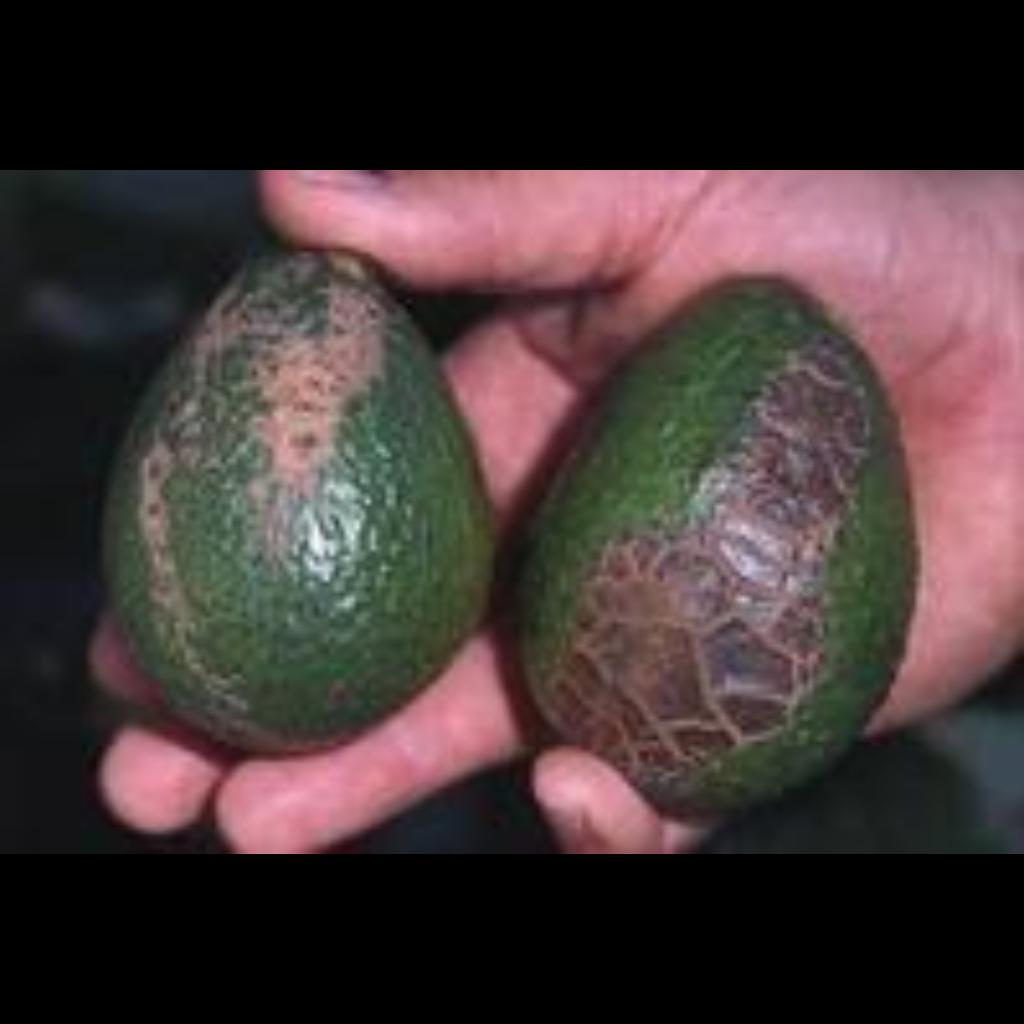cercospora: (569, 285, 919, 764), (157, 206, 486, 715)
